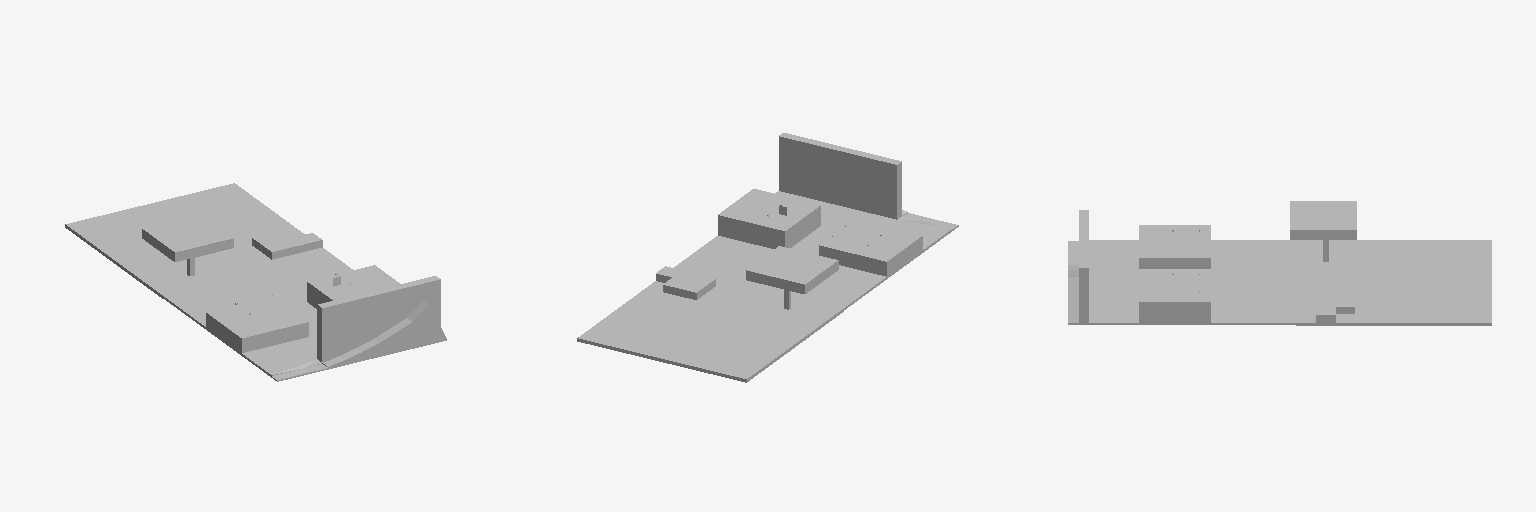
The model's file is bataille7.obj.
3 renders of one model, left to right at view 1: azimuth 30°, elevation 25°; view 2: azimuth 150°, elevation 25°; view 3: azimuth 270°, elevation 25°, orthographic.
Parts seen in each view (by area): view 1: Terrain; view 2: Terrain; view 3: Terrain.
Part boxes in pixels (x1,y1,x2,y2): Terrain: (65, 183, 446, 381); Terrain: (577, 133, 958, 382); Terrain: (1068, 201, 1491, 325).
Size of the model in its own units: 42.15 by 14.01 by 91.37.